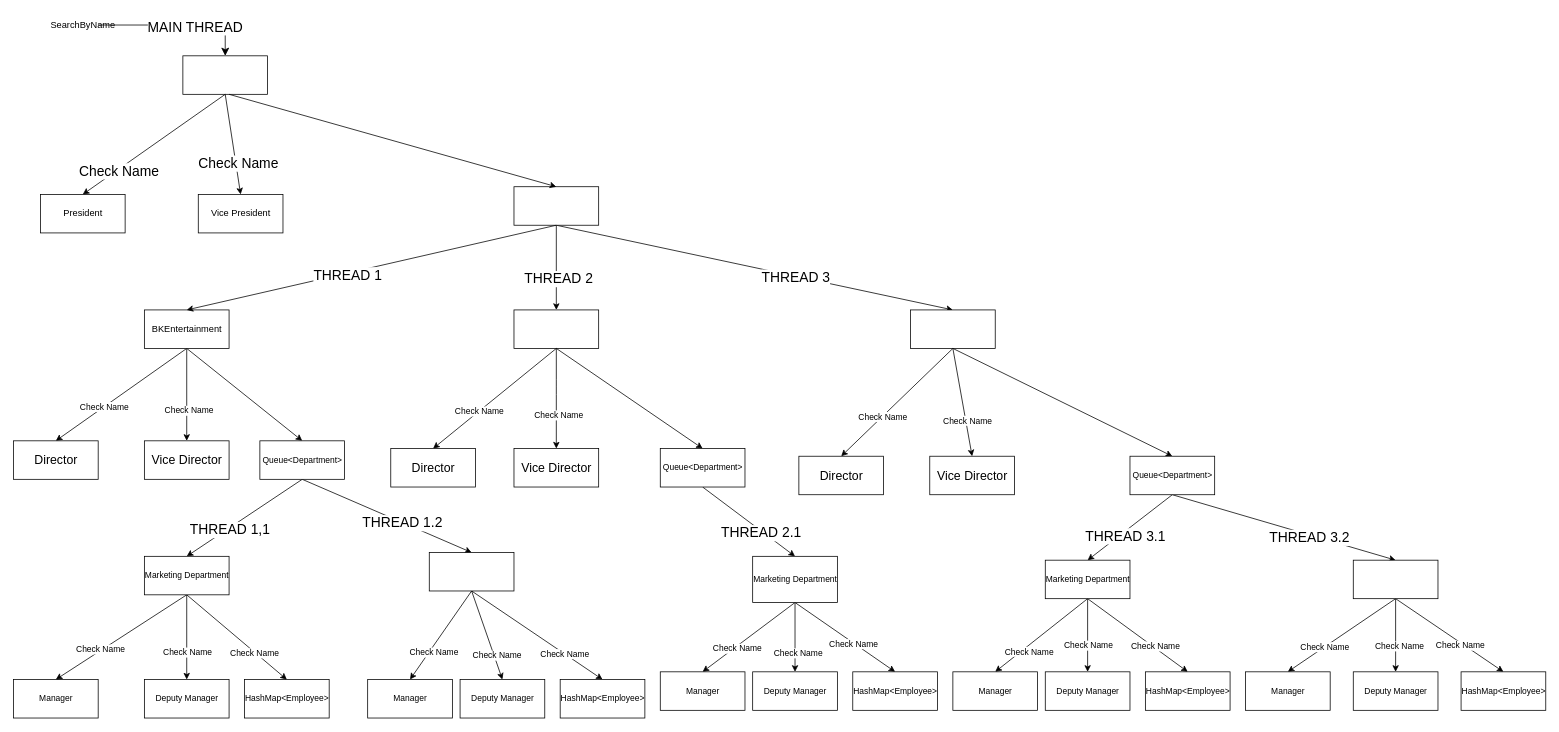
This 1559x732 diagram has some shape labels left out. Each missing label, with the centre of its shape:
"Accounting Department" belongs at point (471, 571).
"BKCorporation" belongs at point (225, 74).
"BKFood" belongs at point (556, 328).
"BKTech" belongs at point (952, 328).
"IT Department" belongs at point (1395, 579).
"Queue<Company>" belongs at point (556, 205).
